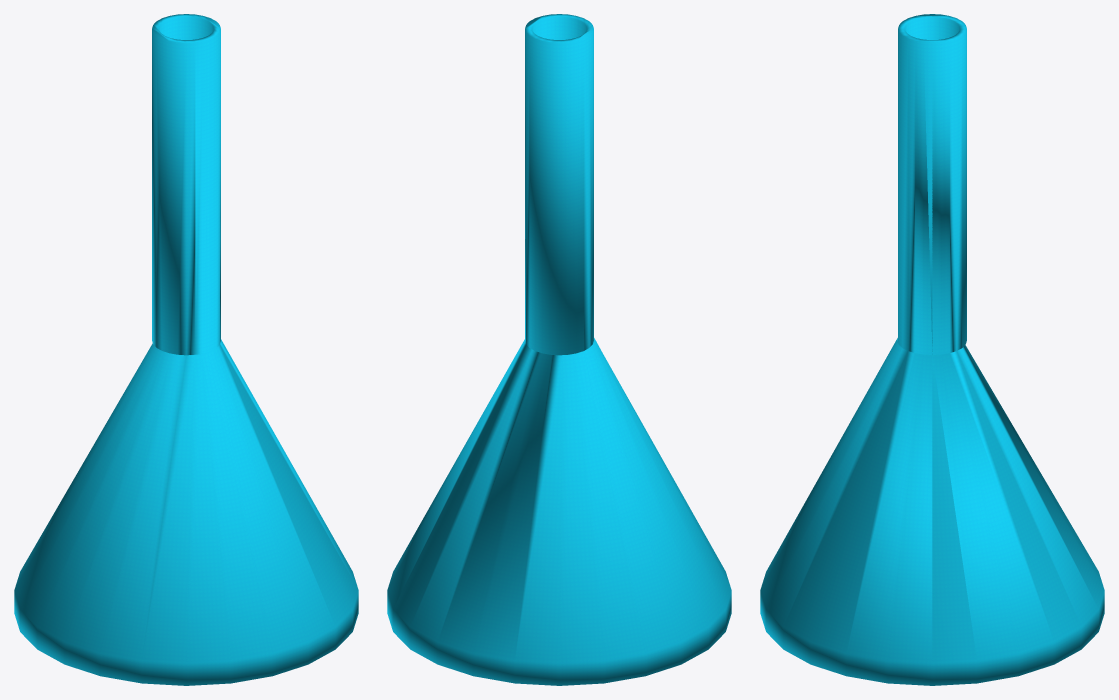
3 renders of one model, left to right at view 1: azimuth 30°, elevation 25°; view 2: azimuth 150°, elevation 25°; view 3: azimuth 270°, elevation 25°, orthographic.
Visible parts, largest first — view 1: root; view 2: root; view 3: root.
Part boxes in pixels (x1,y1,x2,y2): root: (14,14,358,685); root: (387,14,731,685); root: (760,14,1104,685).
Bounding box in the file's own units: 50 × 93.63 × 50.
Materials: 1 (1 with a texture image).
